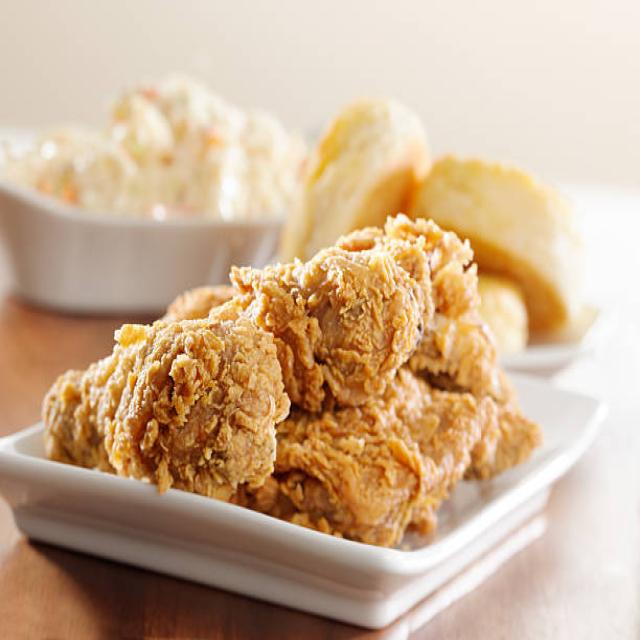Frango: (42, 204, 540, 560)
